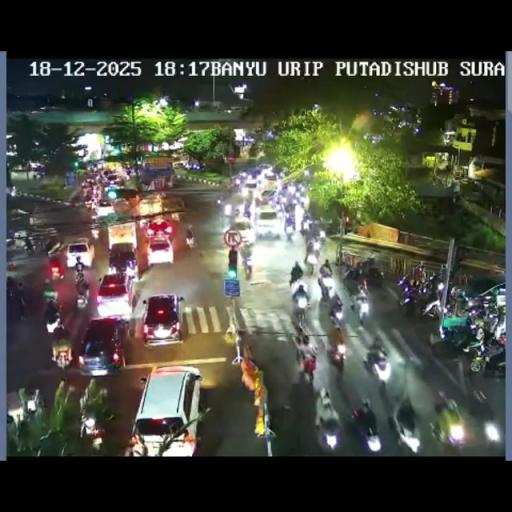Car: (128, 364, 202, 455), (77, 315, 129, 375), (141, 293, 185, 347), (96, 273, 137, 318), (6, 388, 42, 427), (108, 243, 138, 276), (146, 233, 174, 265), (254, 206, 280, 238), (66, 241, 94, 268), (231, 214, 254, 242), (94, 198, 116, 219), (242, 172, 259, 190), (258, 188, 274, 206), (254, 164, 274, 178), (104, 172, 121, 185), (172, 160, 189, 169)
Motorcycle: (302, 258, 374, 362), (270, 174, 322, 260), (464, 388, 499, 442), (431, 397, 466, 447), (466, 330, 504, 374), (428, 320, 468, 358), (349, 402, 379, 450), (394, 411, 421, 454), (421, 285, 451, 321), (78, 411, 104, 451), (364, 343, 390, 380), (316, 414, 342, 450), (463, 300, 491, 326), (397, 278, 419, 310), (6, 290, 28, 322), (448, 284, 468, 315), (290, 286, 309, 318), (327, 340, 346, 372), (352, 286, 370, 319), (327, 292, 343, 326), (300, 350, 317, 380), (53, 344, 72, 369), (318, 270, 334, 298), (75, 281, 90, 309), (304, 242, 318, 272), (28, 236, 50, 254), (493, 308, 506, 338), (42, 278, 58, 302), (344, 262, 362, 282), (240, 251, 253, 278), (294, 321, 308, 346), (46, 310, 60, 334), (318, 387, 332, 411), (224, 200, 238, 223), (288, 269, 302, 288), (283, 216, 295, 238), (74, 260, 86, 282), (50, 262, 62, 282), (86, 199, 98, 218), (229, 178, 243, 194), (90, 186, 102, 204), (315, 234, 326, 252), (359, 274, 369, 293), (299, 222, 309, 240), (242, 202, 252, 219), (185, 232, 194, 250), (322, 259, 332, 275), (90, 226, 100, 240), (32, 171, 44, 181), (6, 236, 16, 248), (242, 186, 251, 198), (216, 196, 222, 205)
